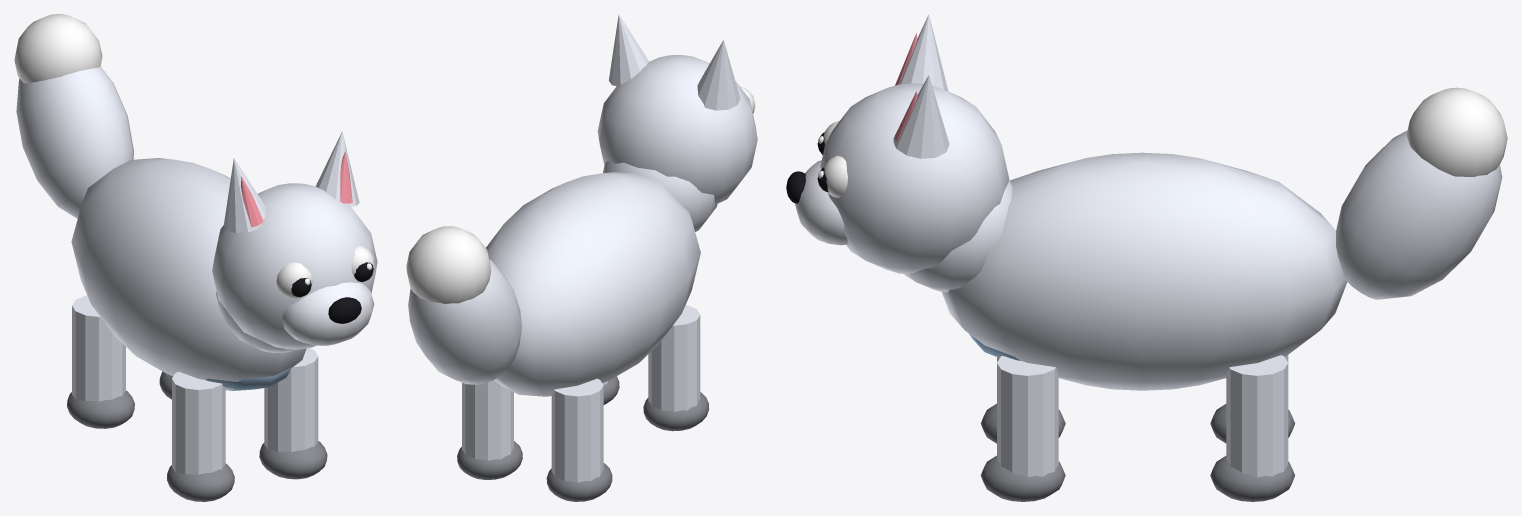
3 renders of one model, left to right at view 1: azimuth 30°, elevation 25°; view 2: azimuth 150°, elevation 25°; view 3: azimuth 270°, elevation 25°, orthographic. The views are drawn at different scales.
Parts seen in each view (by area): view 1: Snow Fox; view 2: Snow Fox; view 3: Snow Fox.
Part boxes in pixels (left/top/right/bottom): Snow Fox: left=14, top=14, right=377, bottom=501; Snow Fox: left=406, top=14, right=757, bottom=501; Snow Fox: left=786, top=14, right=1507, bottom=501.
Bounding box in the file's own units: 1.44 × 3.04 × 4.67.
1 material, 1 textured.
